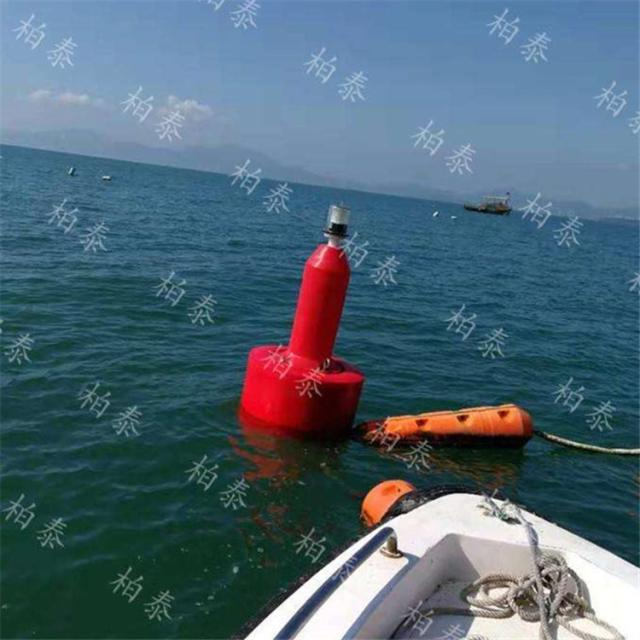buoy: (238, 201, 372, 439)
